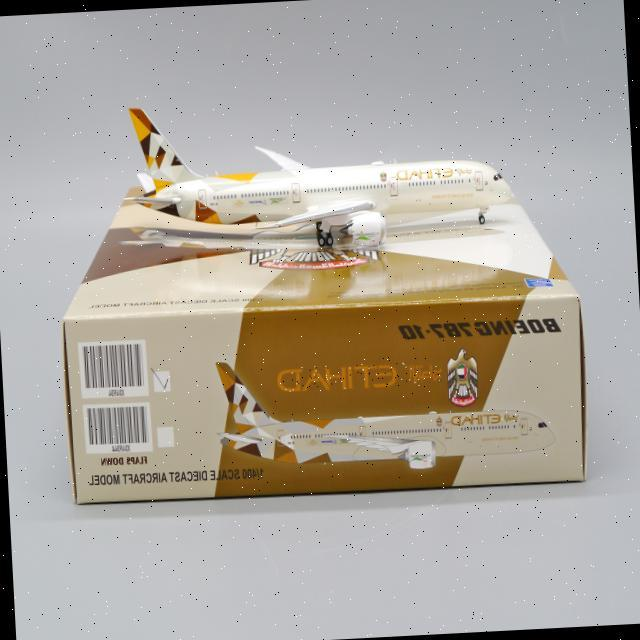Etihad Airways: (277, 360, 443, 395), (397, 166, 473, 181), (451, 411, 519, 426)
